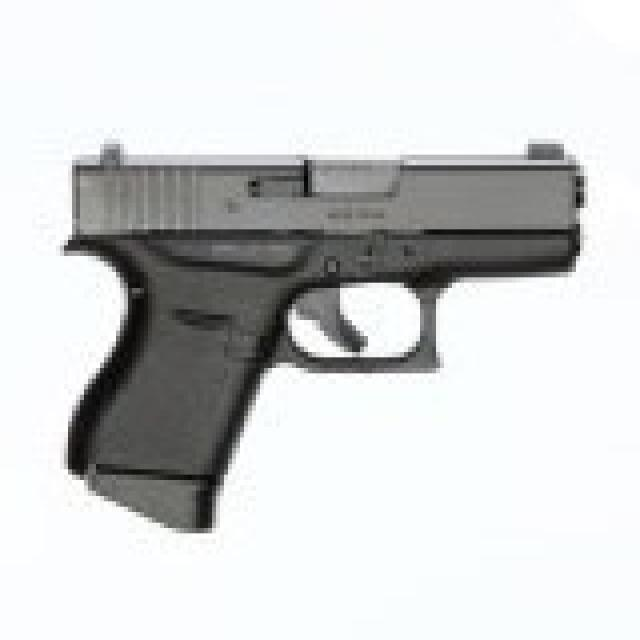Gun: (39, 84, 613, 552)
